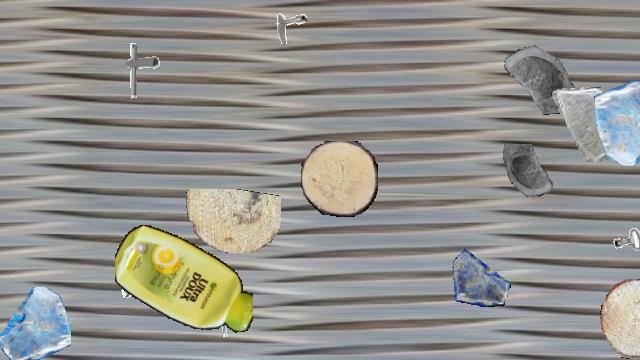glass: (494, 32, 576, 114), (550, 87, 624, 161), (0, 287, 70, 359), (594, 81, 640, 165), (499, 144, 561, 206), (452, 248, 510, 306)
metal: (108, 40, 168, 100), (599, 195, 640, 255), (115, 255, 161, 301), (207, 301, 251, 345), (265, 2, 307, 44)
plastic: (115, 221, 253, 337)
wood: (183, 189, 281, 253), (301, 141, 377, 217), (600, 279, 640, 359)
